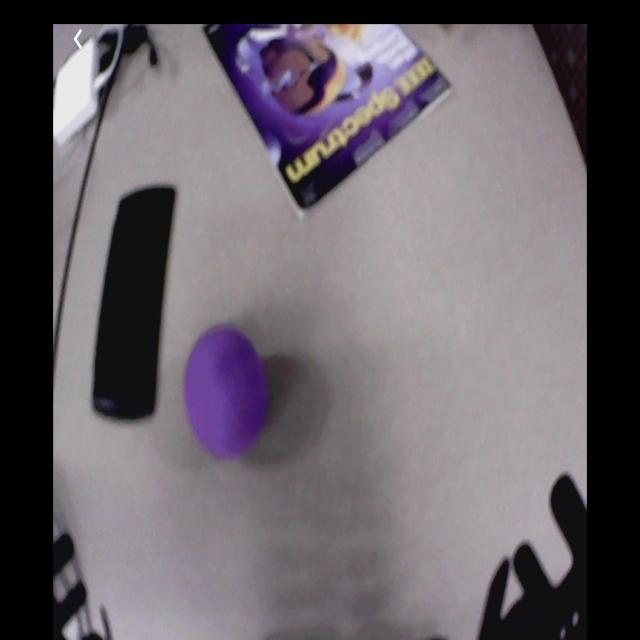ball: (185, 328, 267, 464)
